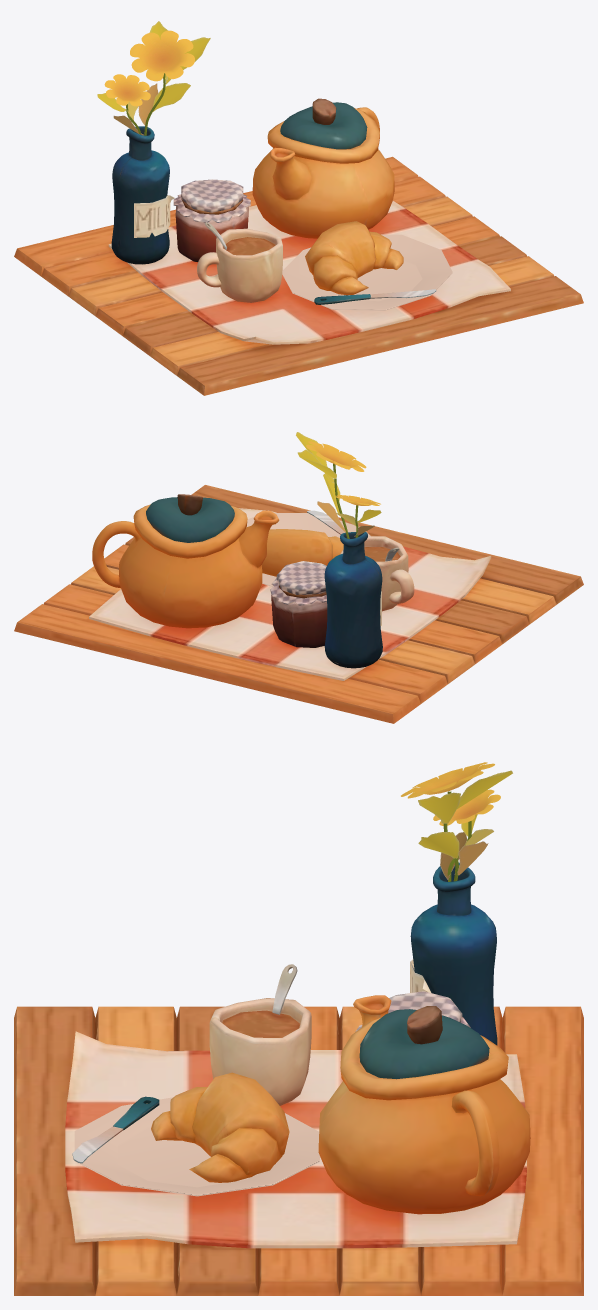
File: picnic.glb
3 renders of one model, top to bottom at view 1: azimuth 30°, elevation 25°; view 2: azimuth 150°, elevation 25°; view 3: azimuth 270°, elevation 25°, orthographic. The views are drawn at different scales.
Visible parts, largest first — view 1: breakfast_picnic; view 2: breakfast_picnic; view 3: breakfast_picnic.
Boxes of the visible parts, <box> form: breakfast_picnic: <box>14,21,583,395</box>; breakfast_picnic: <box>14,432,583,723</box>; breakfast_picnic: <box>14,762,583,1295</box>.
Bounding box in the file's own units: 0.2176 × 0.1269 × 0.1886.
Materials: 1 (1 with a texture image).
